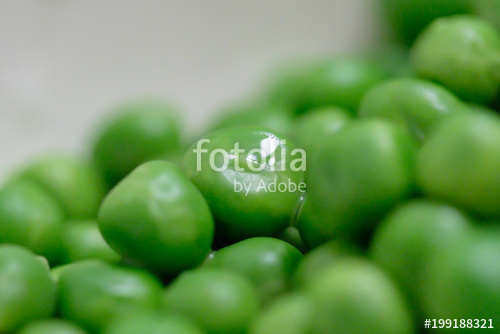boiled peas: (12, 26, 490, 334)
